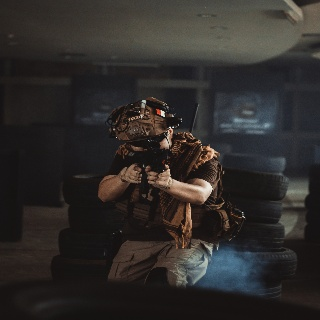rifle: (122, 148, 174, 197)
